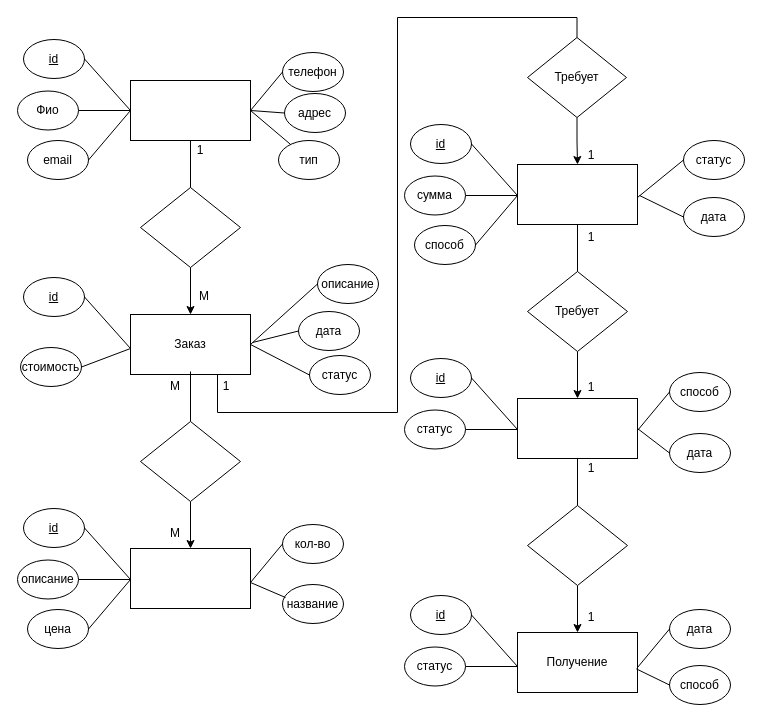
Some shapes in this 762 by 722 pixel diagram are drawn without their labels. Here are the shapes that lost their labels. From the top down, the centre of each, then its label:
(x=190, y=110): Клиент
(x=577, y=194): Платеж
(x=190, y=227): Оформляет
(x=577, y=428): Отгрузка
(x=190, y=461): Содержит
(x=577, y=545): Соответвсует
(x=190, y=578): Продукт
